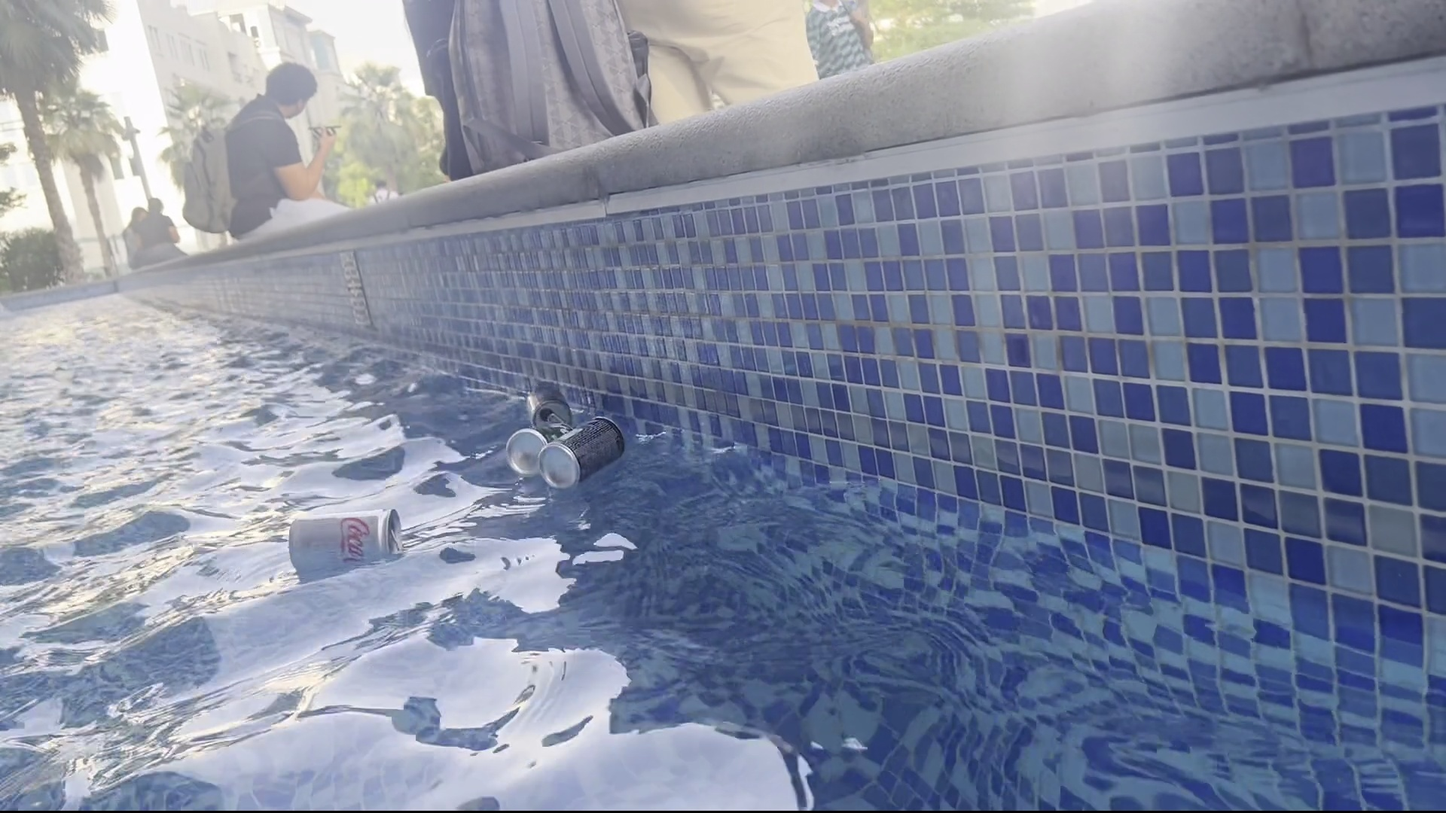debris: (281, 504, 407, 579), (534, 406, 627, 490), (503, 417, 574, 483), (511, 380, 575, 429)
